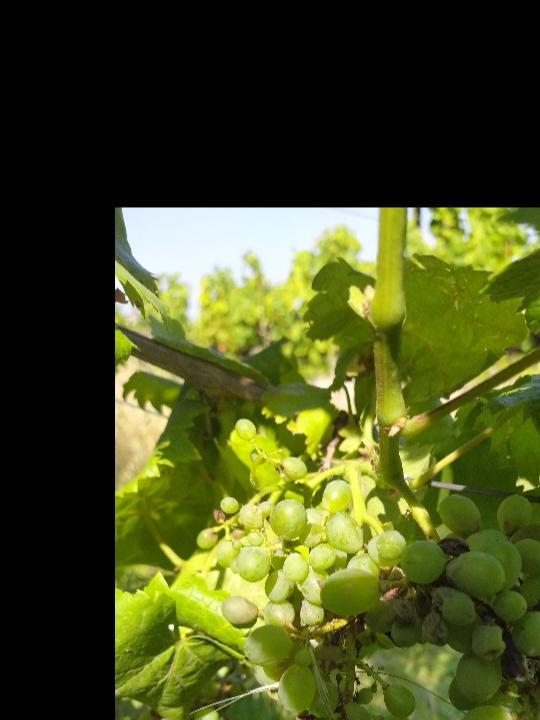grape: (197, 419, 540, 720)
